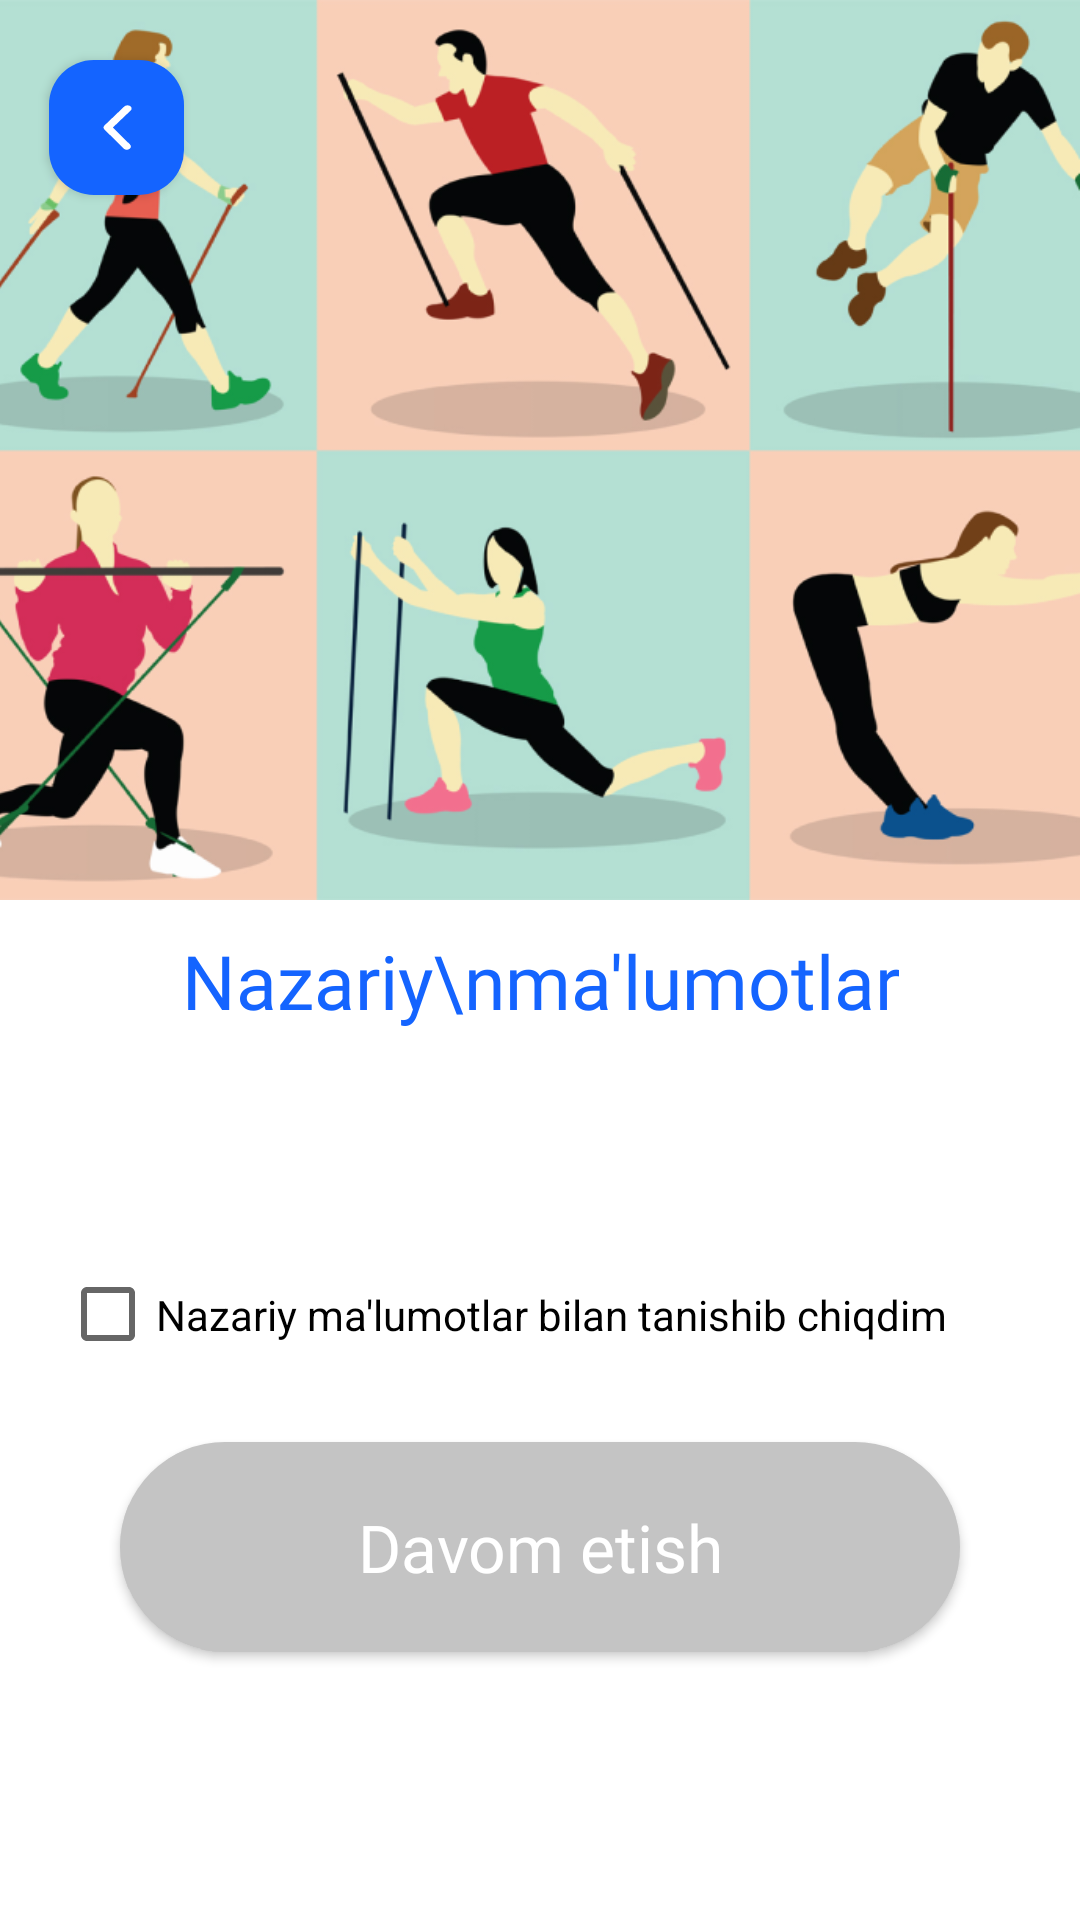

Icon bounding boxes for this 1080×1920 phone screenshot, format (left=x1, top=y1, right=x2, bottom=y2):
left arrow: (left=49, top=60, right=184, bottom=195)
